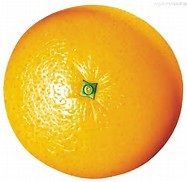orange: (4, 2, 186, 181)
